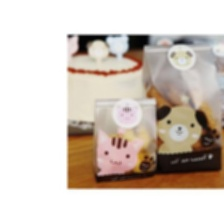snack: (137, 38, 223, 178), (86, 92, 163, 187)
